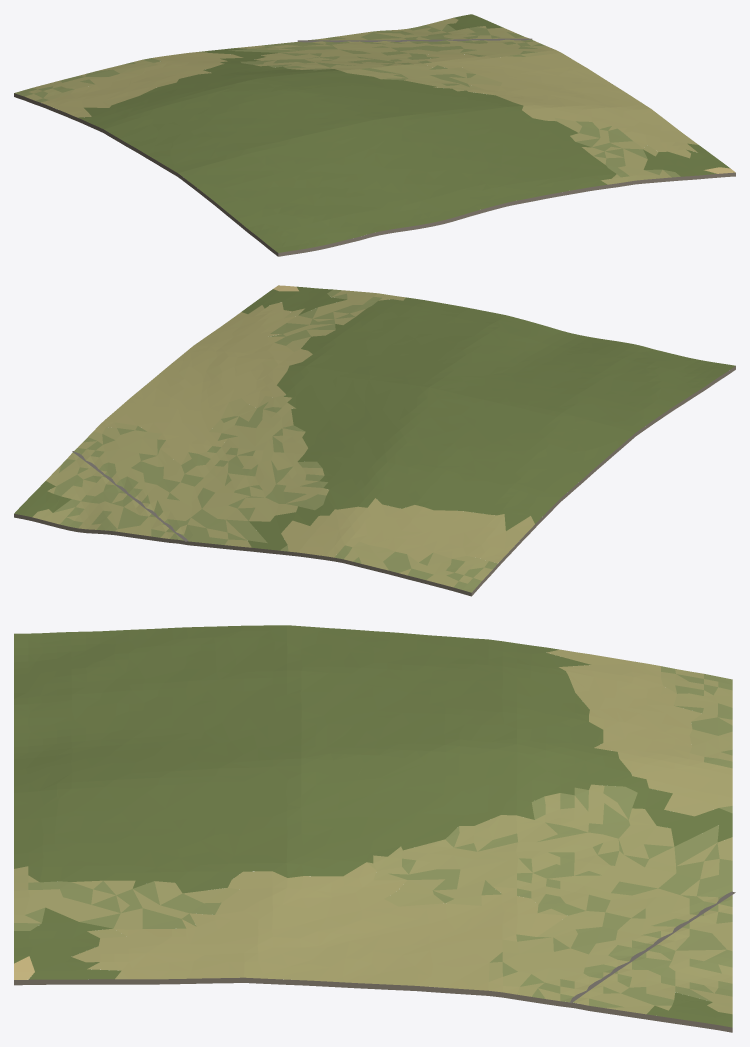
The model's file is parca_+12_-2-uzak.glb.
3 views of the same model, one above another, from view 1: azimuth 30°, elevation 25°; view 2: azimuth 150°, elevation 25°; view 3: azimuth 270°, elevation 25° (orthographic). The views are drawn at different scales.
Visible parts, largest first — view 1: parca_+12_-2_arazi_uzak, parca_+12_-2_yollar_uzak; view 2: parca_+12_-2_arazi_uzak; view 3: parca_+12_-2_arazi_uzak, parca_+12_-2_yollar_uzak.
Boxes of the visible parts, box(x1,y1,x2,y2) form: parca_+12_-2_arazi_uzak: box(14, 14, 735, 256); parca_+12_-2_yollar_uzak: box(297, 38, 532, 42); parca_+12_-2_arazi_uzak: box(14, 285, 735, 596); parca_+12_-2_arazi_uzak: box(14, 625, 732, 1032); parca_+12_-2_yollar_uzak: box(567, 891, 735, 1003).
Bounding box in the file's own units: 1003 × 164 × 1005.
